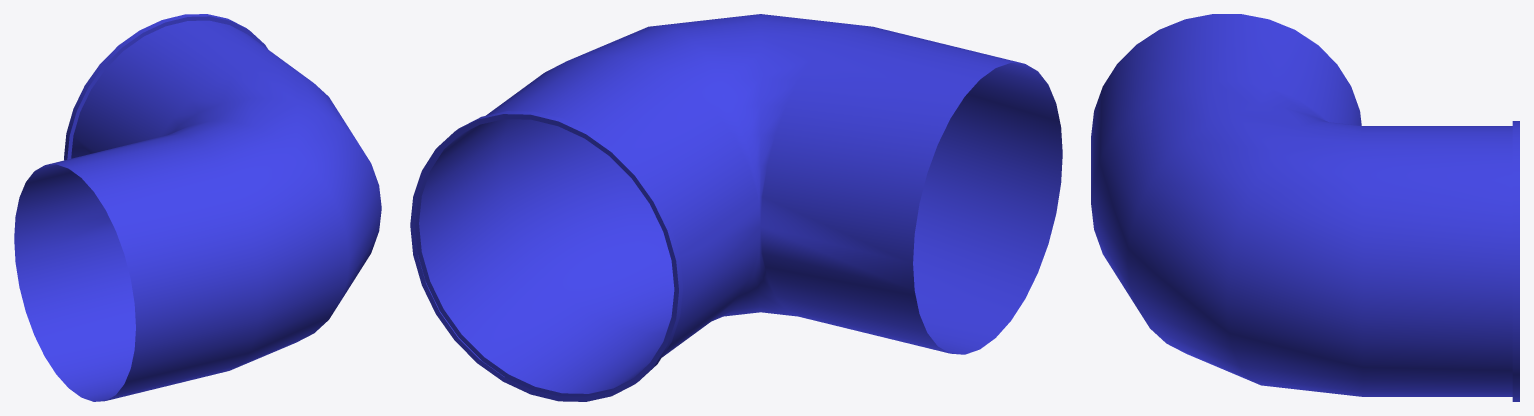
Rendered from duct_curve_low.fbx.
The picture shows the model from 3 angles, left to right: view 1: azimuth 30°, elevation 25°; view 2: azimuth 150°, elevation 25°; view 3: azimuth 270°, elevation 25°; orthographic projection. The views are drawn at different scales.
Parts seen in each view (by area): view 1: ductcurve_low; view 2: ductcurve_low; view 3: ductcurve_low.
Part boxes in pixels (box(x1,y1,x2,y2)): ductcurve_low: box(14, 14, 381, 401); ductcurve_low: box(410, 14, 1062, 401); ductcurve_low: box(1091, 14, 1519, 401).
Bounding box in the file's own units: 101 × 64.97 × 99.34.
